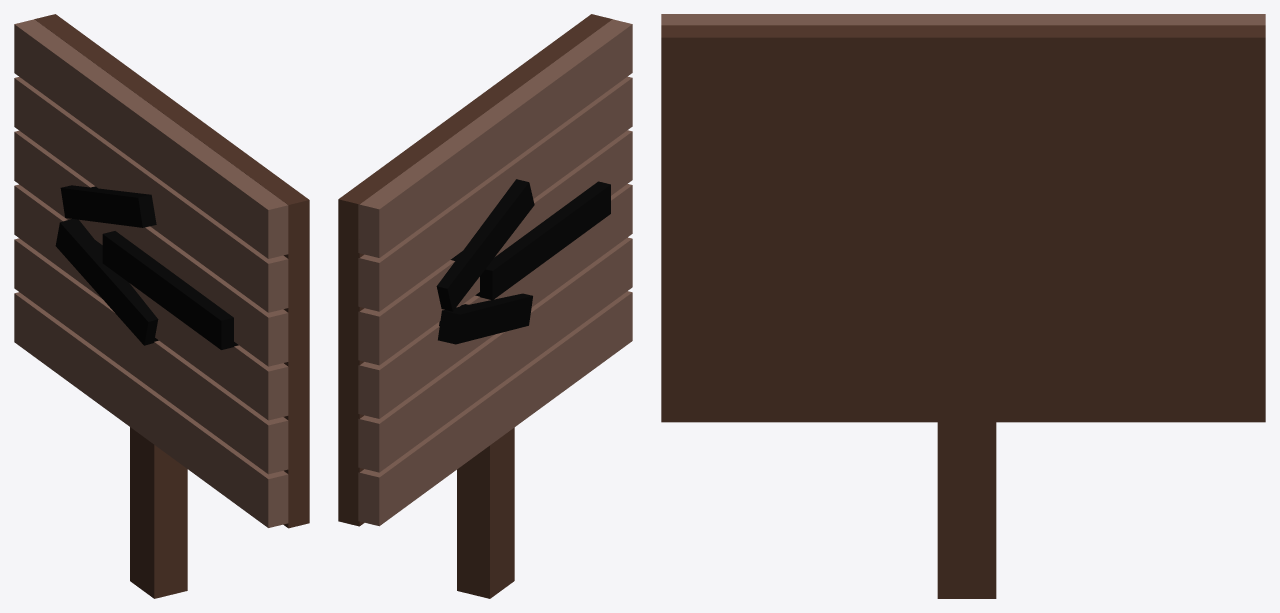
The model's file is Sign.fbx.
3 views of the same model, side by side, from view 1: azimuth 30°, elevation 25°; view 2: azimuth 150°, elevation 25°; view 3: azimuth 270°, elevation 25° (orthographic). The views are drawn at different scales.
Visible parts, largest first — view 1: Cube.005; view 2: Cube.005; view 3: Cube.005.
Boxes of the visible parts, x1=… form: Cube.005: x1=14, y1=14, x2=309, y2=598; Cube.005: x1=338, y1=14, x2=632, y2=598; Cube.005: x1=661, y1=14, x2=1265, y2=598.
Size of the model in its own units: 74.76 by 575 by 558.
